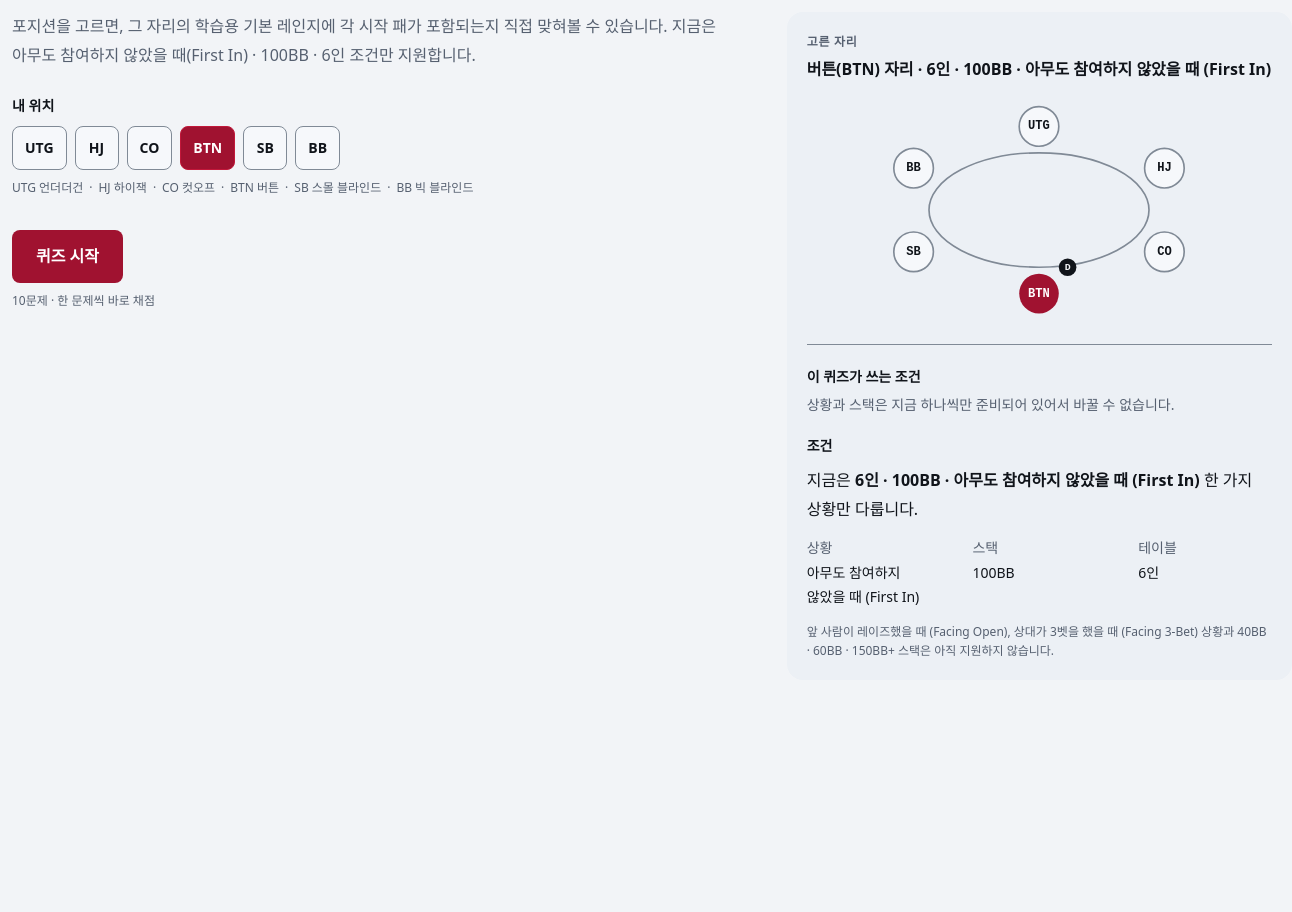
it: RangeQuiz — setup screen › never offers a combination resolveRange cannot answer: 퀴즈 시작 tracks resolveRange for every position
Click the button with aria-label "언더더건(UTG) 자리" at (39, 148), box x1=12 y1=126 x2=66 y2=170
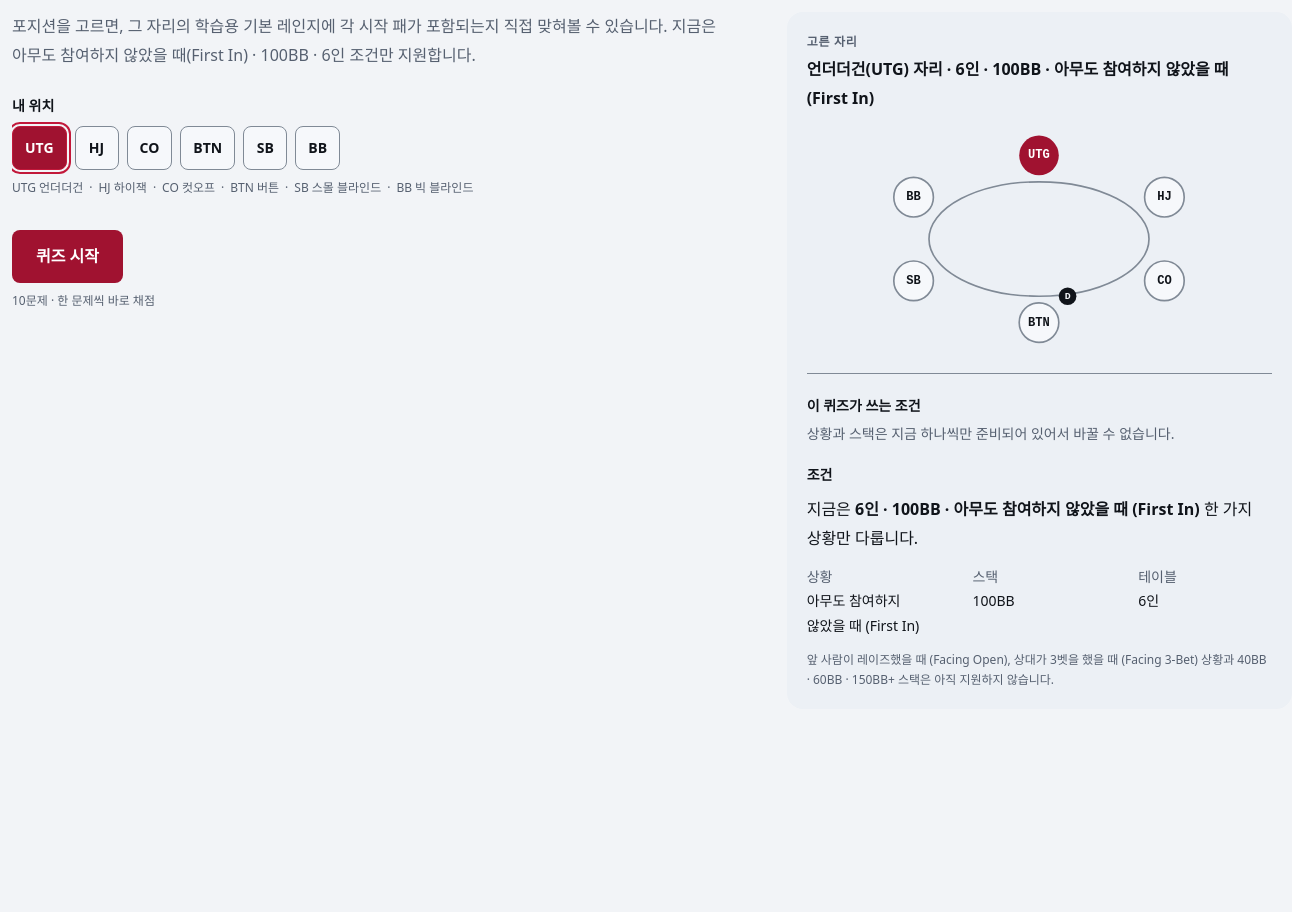
Expected: the button "퀴즈 시작" is enabled, x1=12 y1=230 x2=123 y2=283
Click the button "HJ" at (96, 148), box x1=74 y1=126 x2=118 y2=170
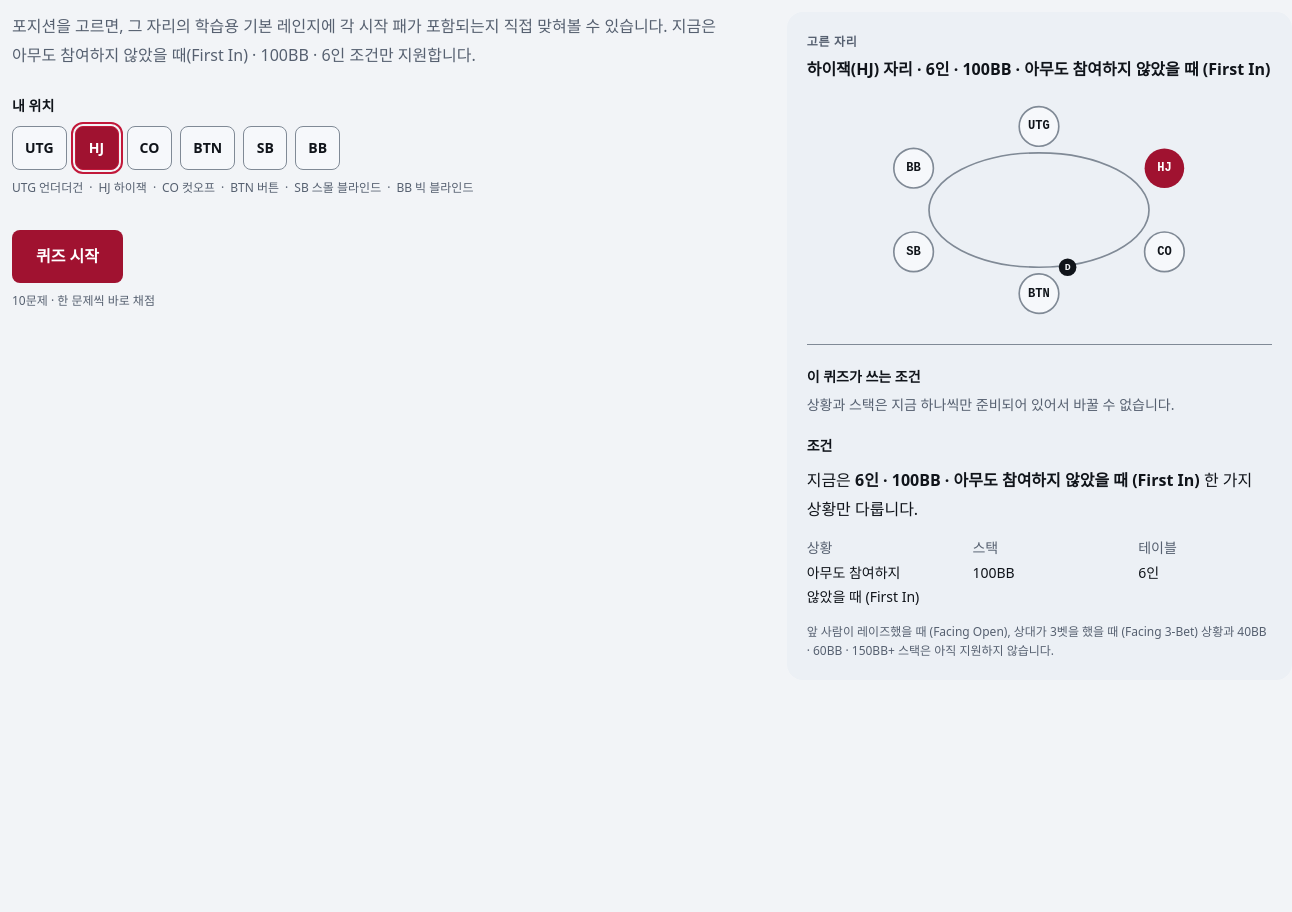
Expected: the button "퀴즈 시작" is enabled, x1=12 y1=230 x2=123 y2=283
Click the button "CO" at (149, 148), box x1=126 y1=126 x2=172 y2=170
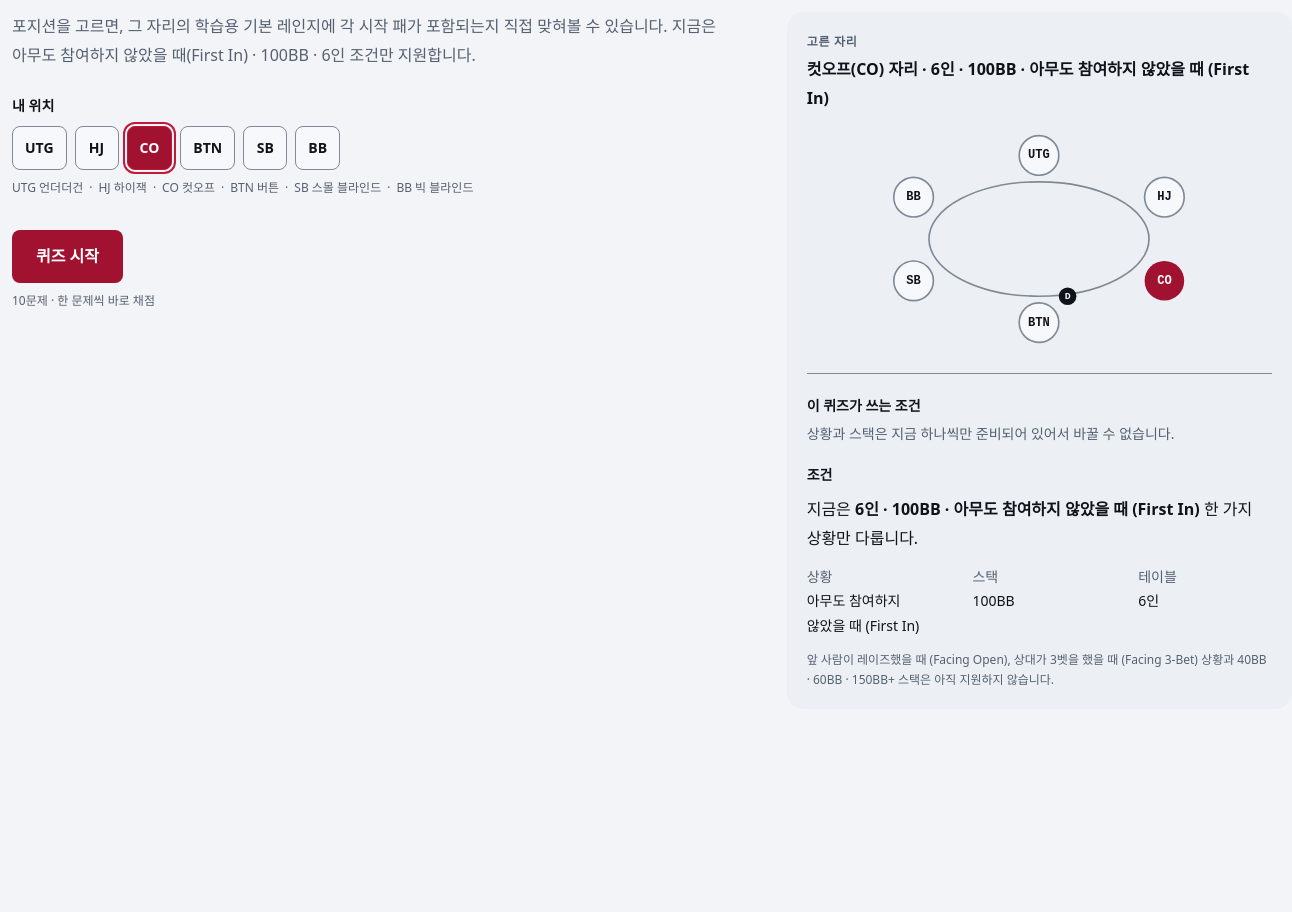
Expected: the button "퀴즈 시작" is enabled, x1=12 y1=230 x2=123 y2=283
Click the button with aria-label "버튼(BTN) 자리" at (208, 148), box x1=180 y1=126 x2=235 y2=170
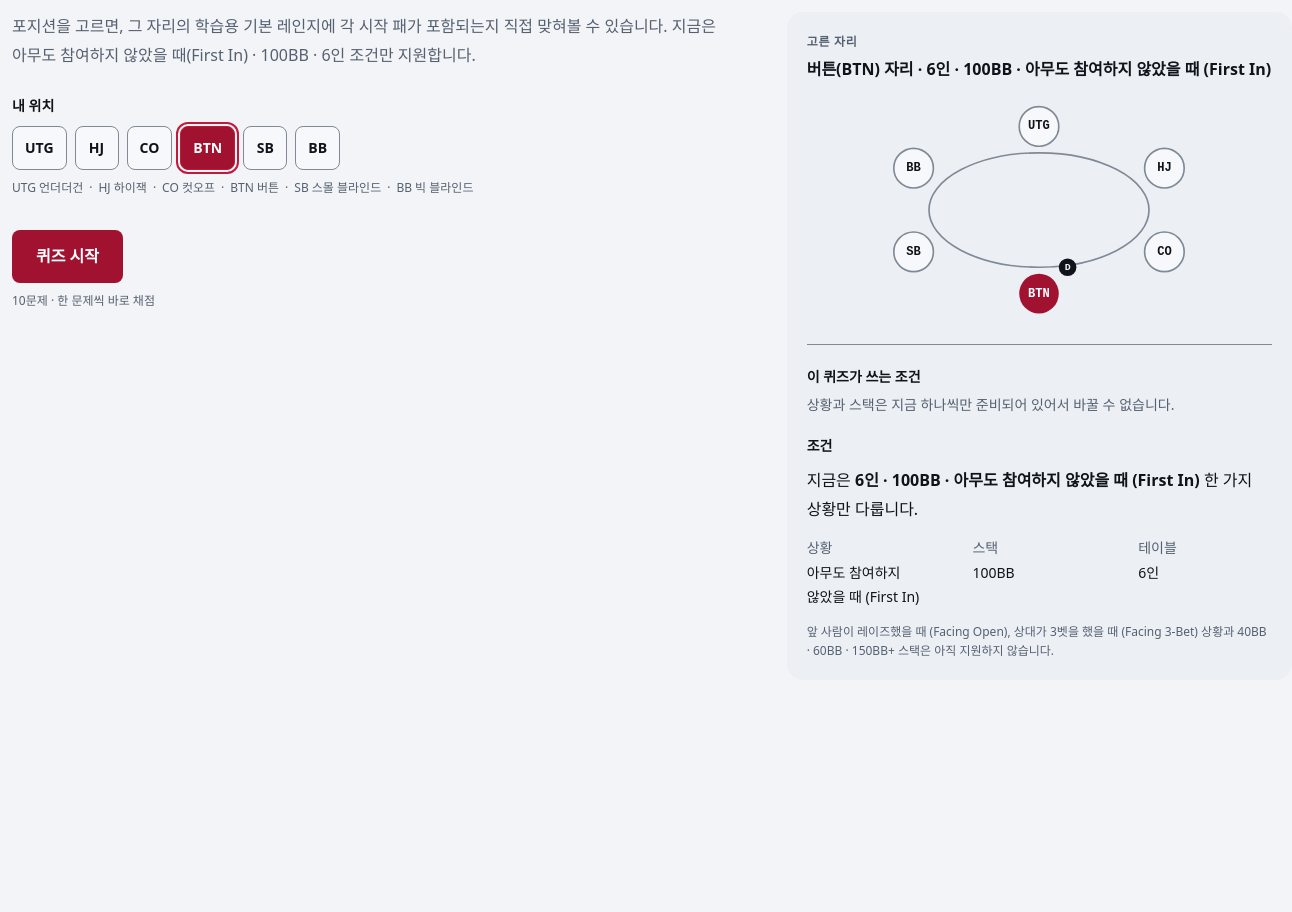
Expected: the button "퀴즈 시작" is enabled, x1=12 y1=230 x2=123 y2=283
Click the button "SB" at (265, 148), box x1=243 y1=126 x2=287 y2=170
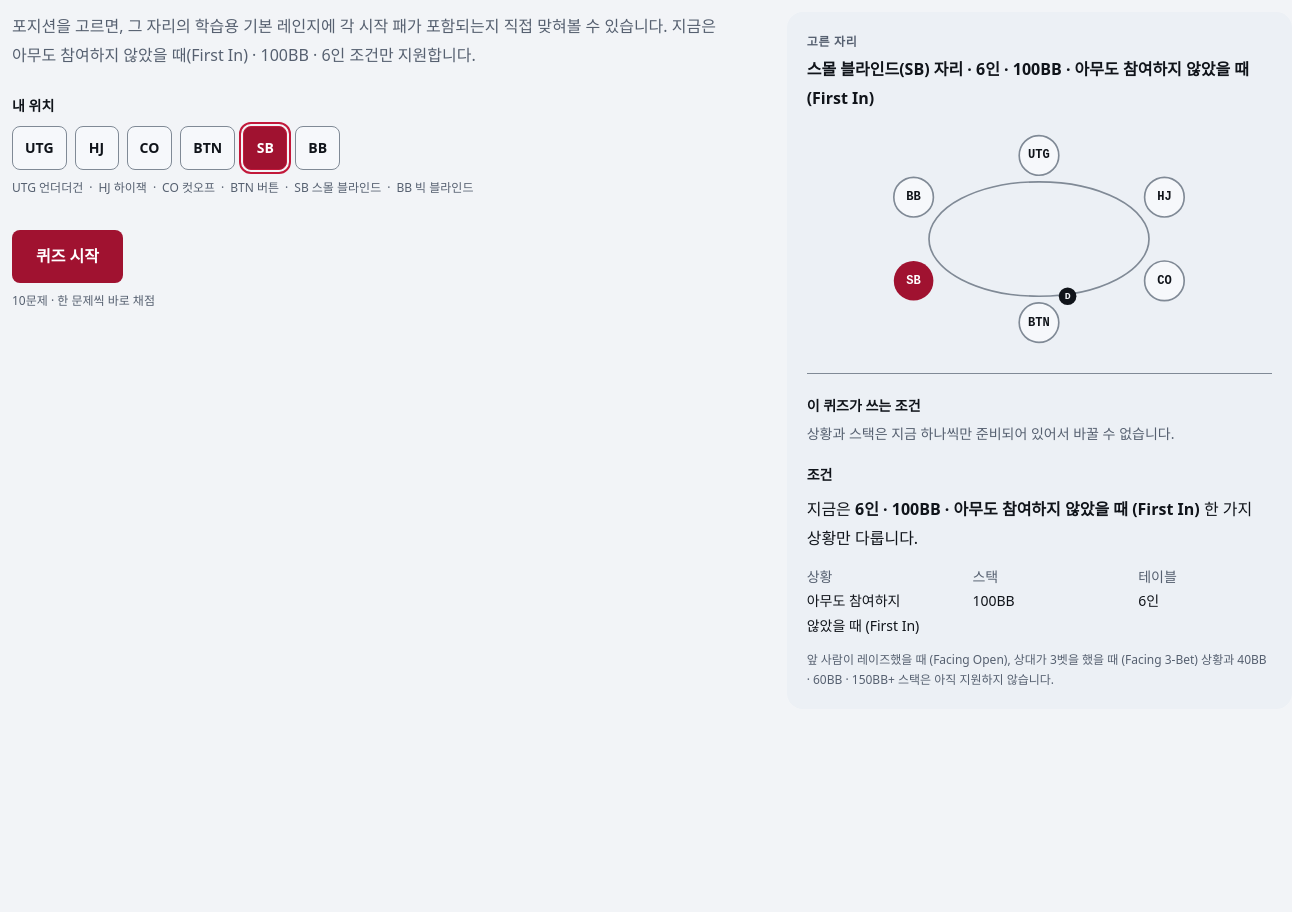
Expected: the button "퀴즈 시작" is enabled, x1=12 y1=230 x2=123 y2=283
Click the button "BB" at (318, 148), box x1=295 y1=126 x2=340 y2=170
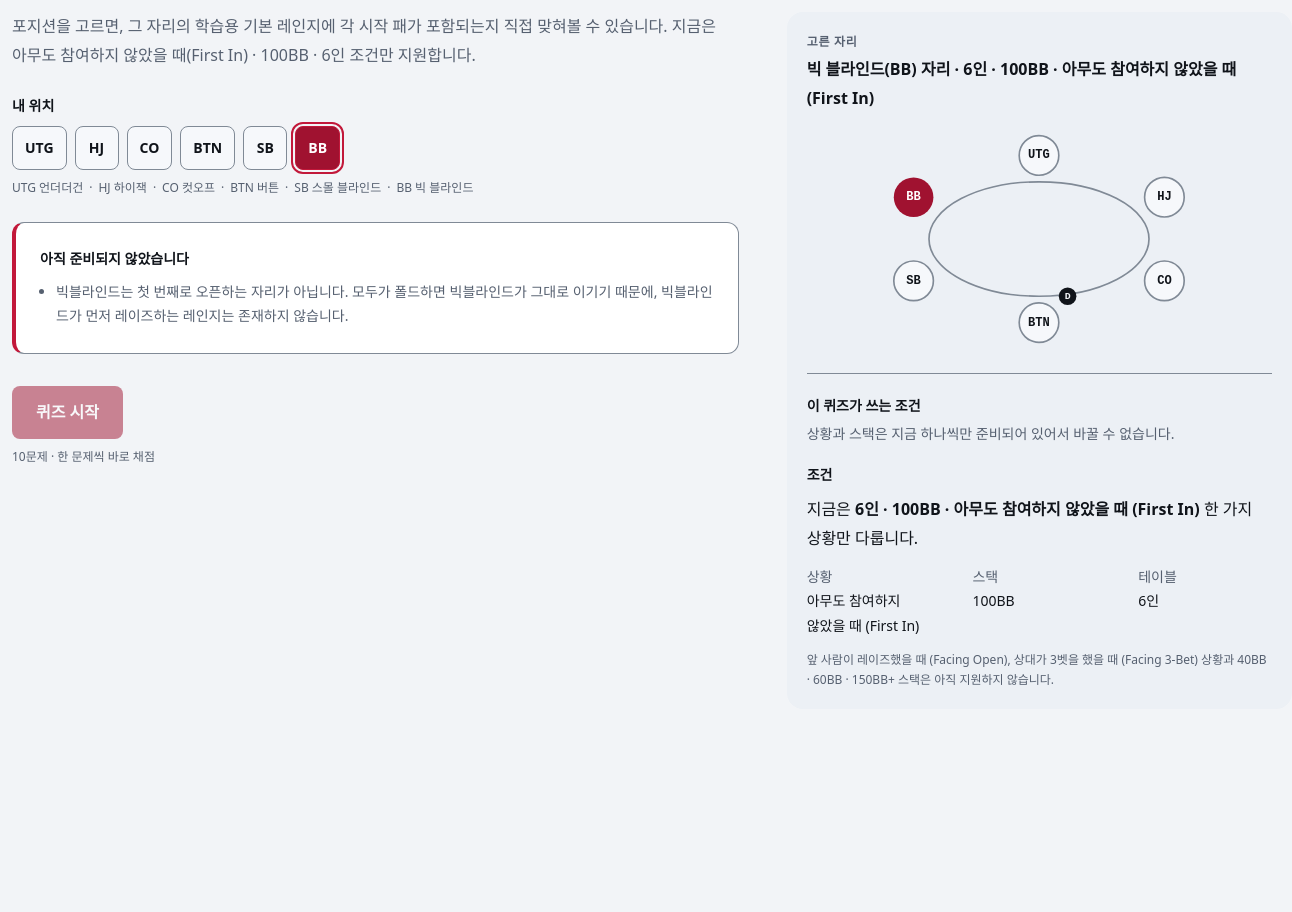
Expected: the button "퀴즈 시작" is disabled, x1=12 y1=386 x2=123 y2=439
